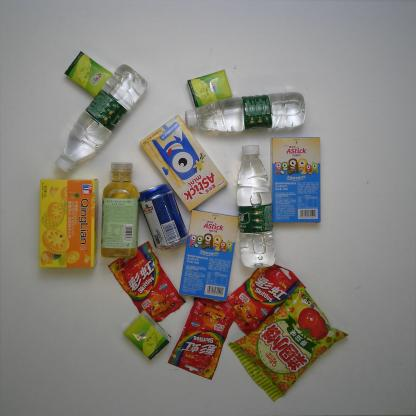Alcohol: (137, 180, 192, 249)
Candy: (172, 289, 238, 380), (110, 244, 182, 323), (225, 263, 301, 332)
Dessert: (139, 114, 230, 207), (178, 202, 244, 310), (35, 175, 103, 273), (269, 136, 331, 228)
Drink: (57, 65, 145, 169), (235, 144, 282, 267), (175, 92, 305, 135), (96, 158, 143, 268)
Puffed Food: (236, 285, 346, 402)
Tissue: (122, 308, 172, 362), (67, 51, 117, 99), (188, 70, 238, 104)
